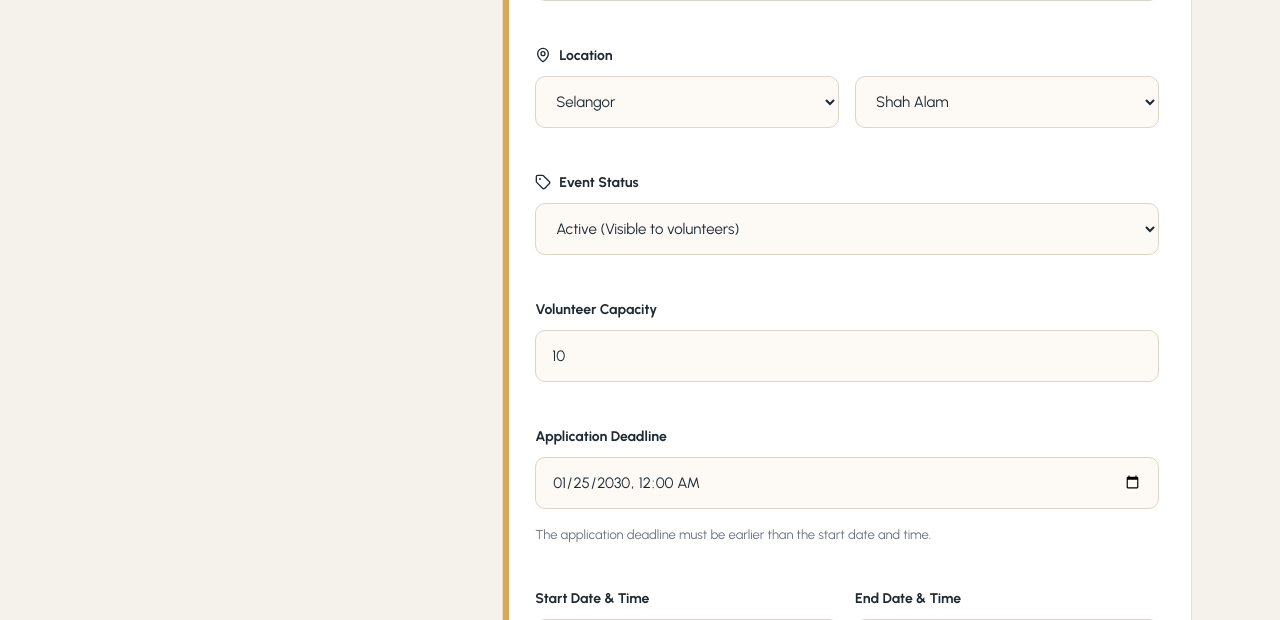
Scenario: Organisation opportunity management UI › surfaces the server guard when capacity is reduced below approved volunteers
(page scrolled)
Replace the text in the number field named "maxVolunteers" with "2" at [847, 356], box [535,330,1159,382]
(page scrolled)
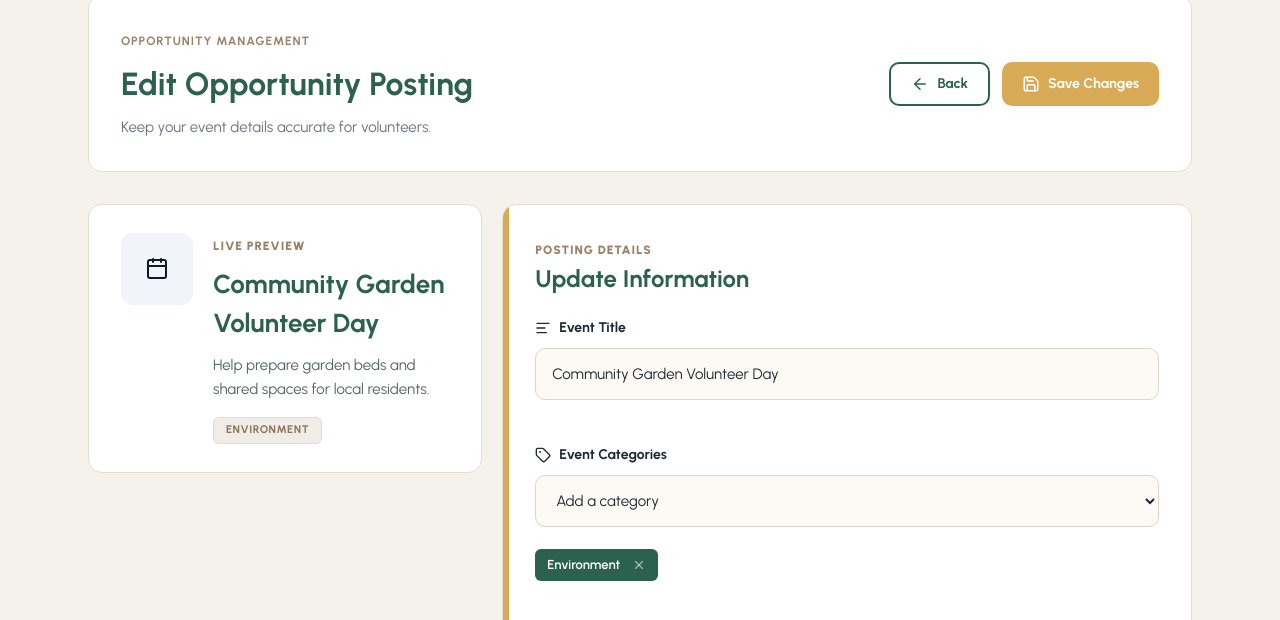
Click the button "Save Changes" at [1080, 84], box [1002,62,1159,106]
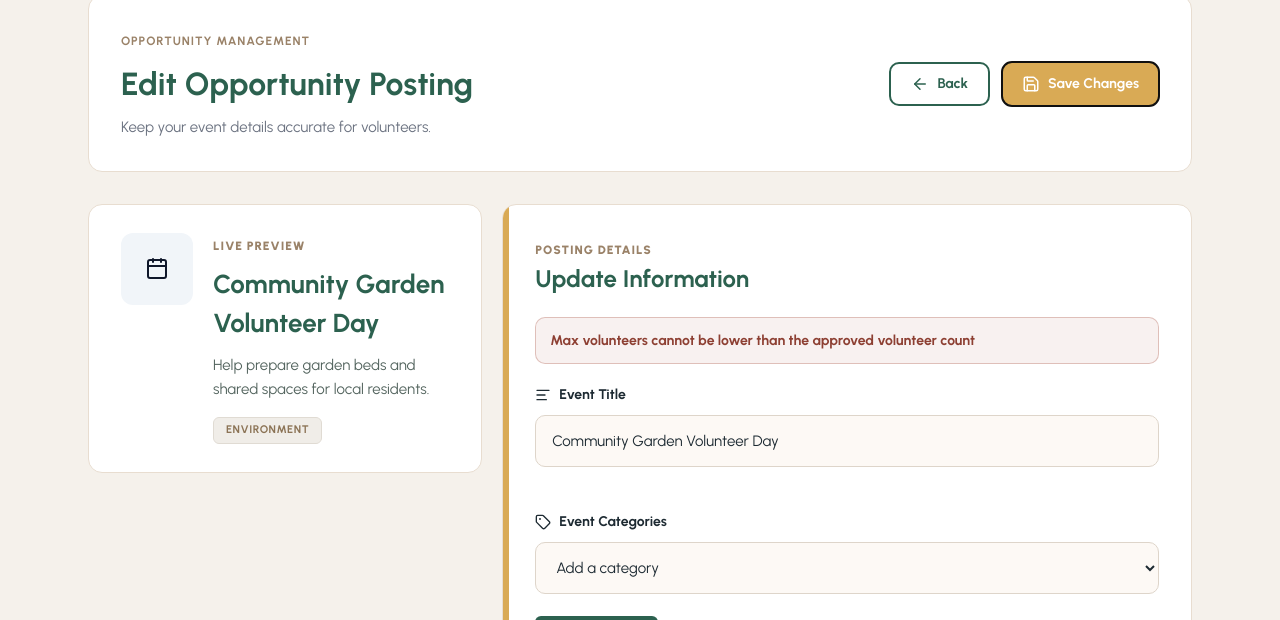
Expected: the text "Max volunteers cannot be lower than the approved volunteer count" is shown, [535,317,1159,364]
